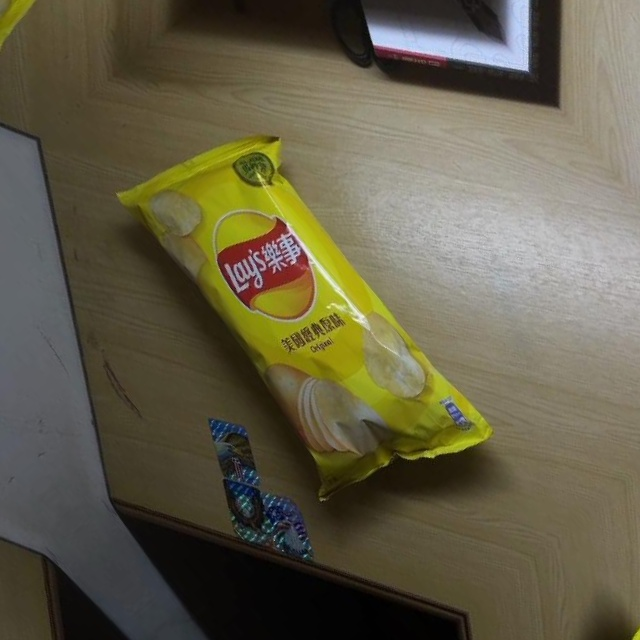Lay-s-original: (88, 91, 515, 547)
